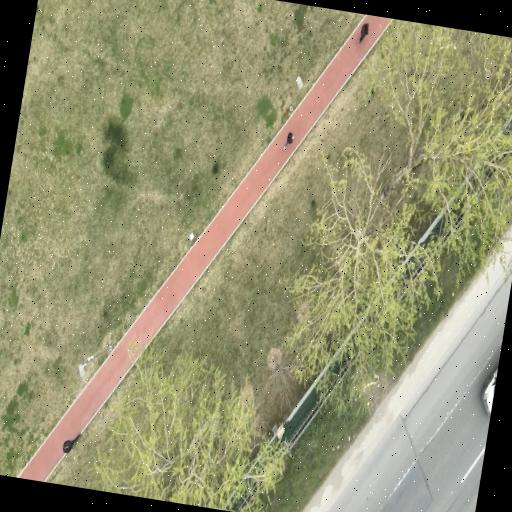car: (481, 368, 497, 415)
person: (62, 434, 80, 452), (358, 23, 368, 42), (283, 132, 292, 148)
